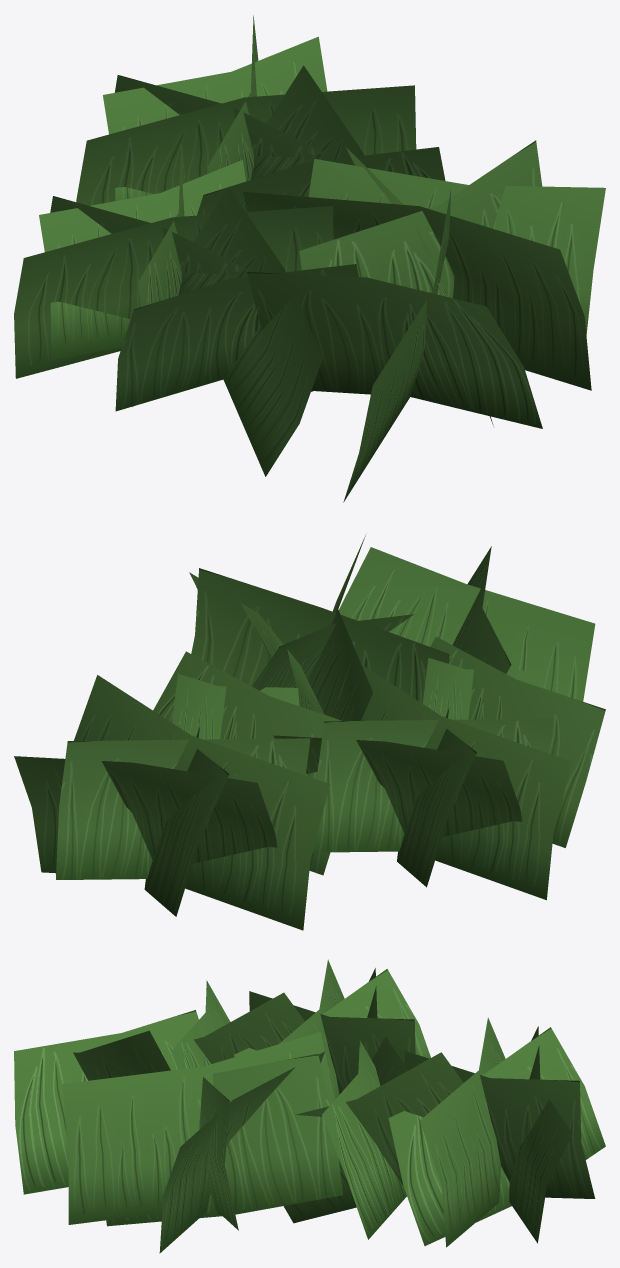
Rendered from GrassPatch2.fbx.
3 views of the same model, one above another, from view 1: azimuth 30°, elevation 25°; view 2: azimuth 150°, elevation 25°; view 3: azimuth 270°, elevation 25° (orthographic). The views are drawn at different scales.
Visible parts, largest first — view 1: GrassPatch_02; view 2: GrassPatch_02; view 3: GrassPatch_02.
Boxes of the visible parts, x1,y1,x2,y2 form: GrassPatch_02: [14, 15, 605, 502]; GrassPatch_02: [14, 535, 605, 930]; GrassPatch_02: [14, 959, 605, 1253].
Bounding box in the file's own units: 269 × 128 × 337.
